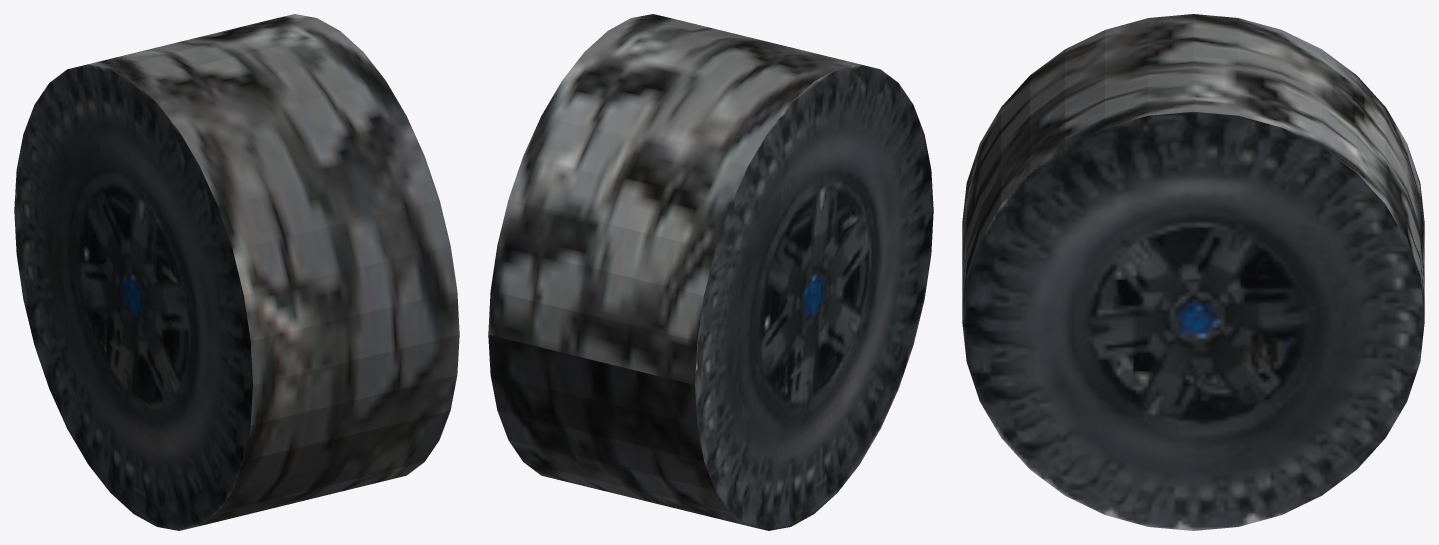
The model's file is wheel.gltf.
The picture shows the model from 3 angles, left to right: view 1: azimuth 30°, elevation 25°; view 2: azimuth 150°, elevation 25°; view 3: azimuth 270°, elevation 25°; orthographic projection. The views are drawn at different scales.
Visible parts, largest first — view 1: Cylinder; view 2: Cylinder; view 3: Cylinder.
Part boxes in pixels (x1,y1,x2,y2): Cylinder: [14, 14, 459, 530]; Cylinder: [488, 14, 933, 530]; Cylinder: [962, 14, 1424, 530].
Size of the model in its own units: 0.1 by 0.2 by 0.2.
Materials: 1 (1 with a texture image).
